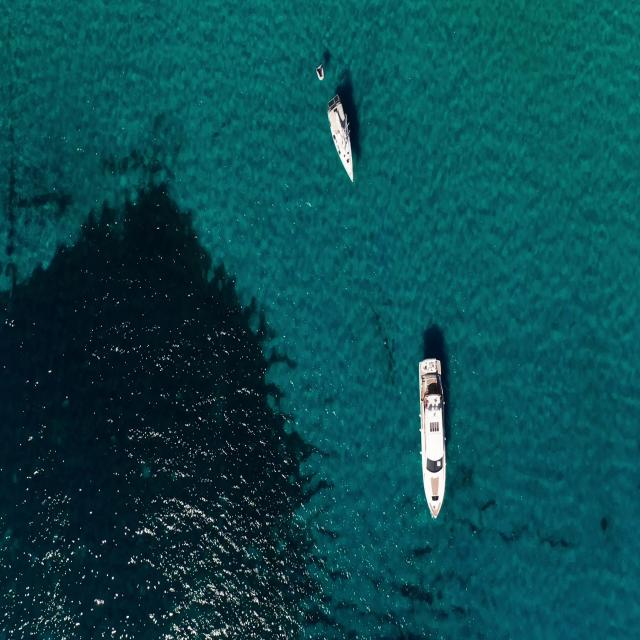ship: (414, 360, 450, 522), (329, 95, 359, 189)
